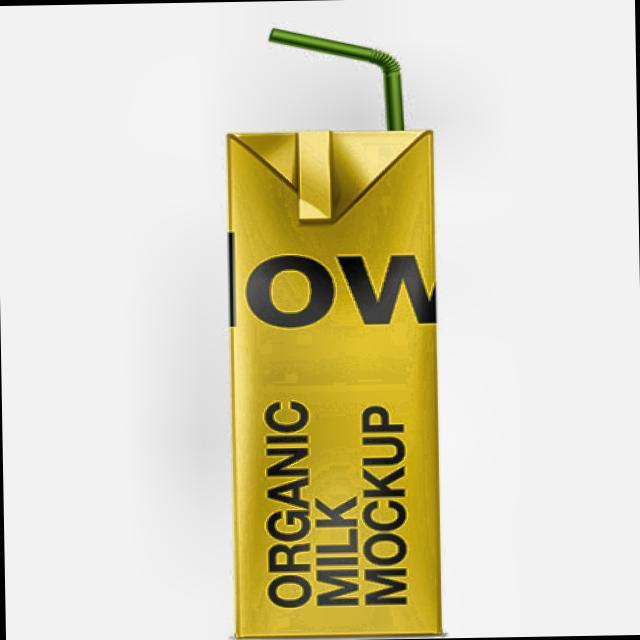cardboard: (222, 126, 443, 638)
